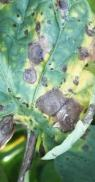Tomato Early blight leaf: (0, 0, 95, 172)
